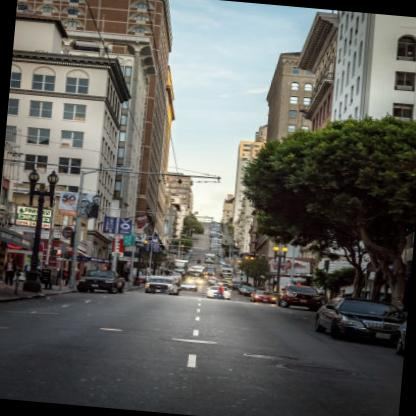manholes: (155, 322, 227, 358), (270, 360, 367, 386), (230, 343, 306, 374), (73, 316, 133, 339)
